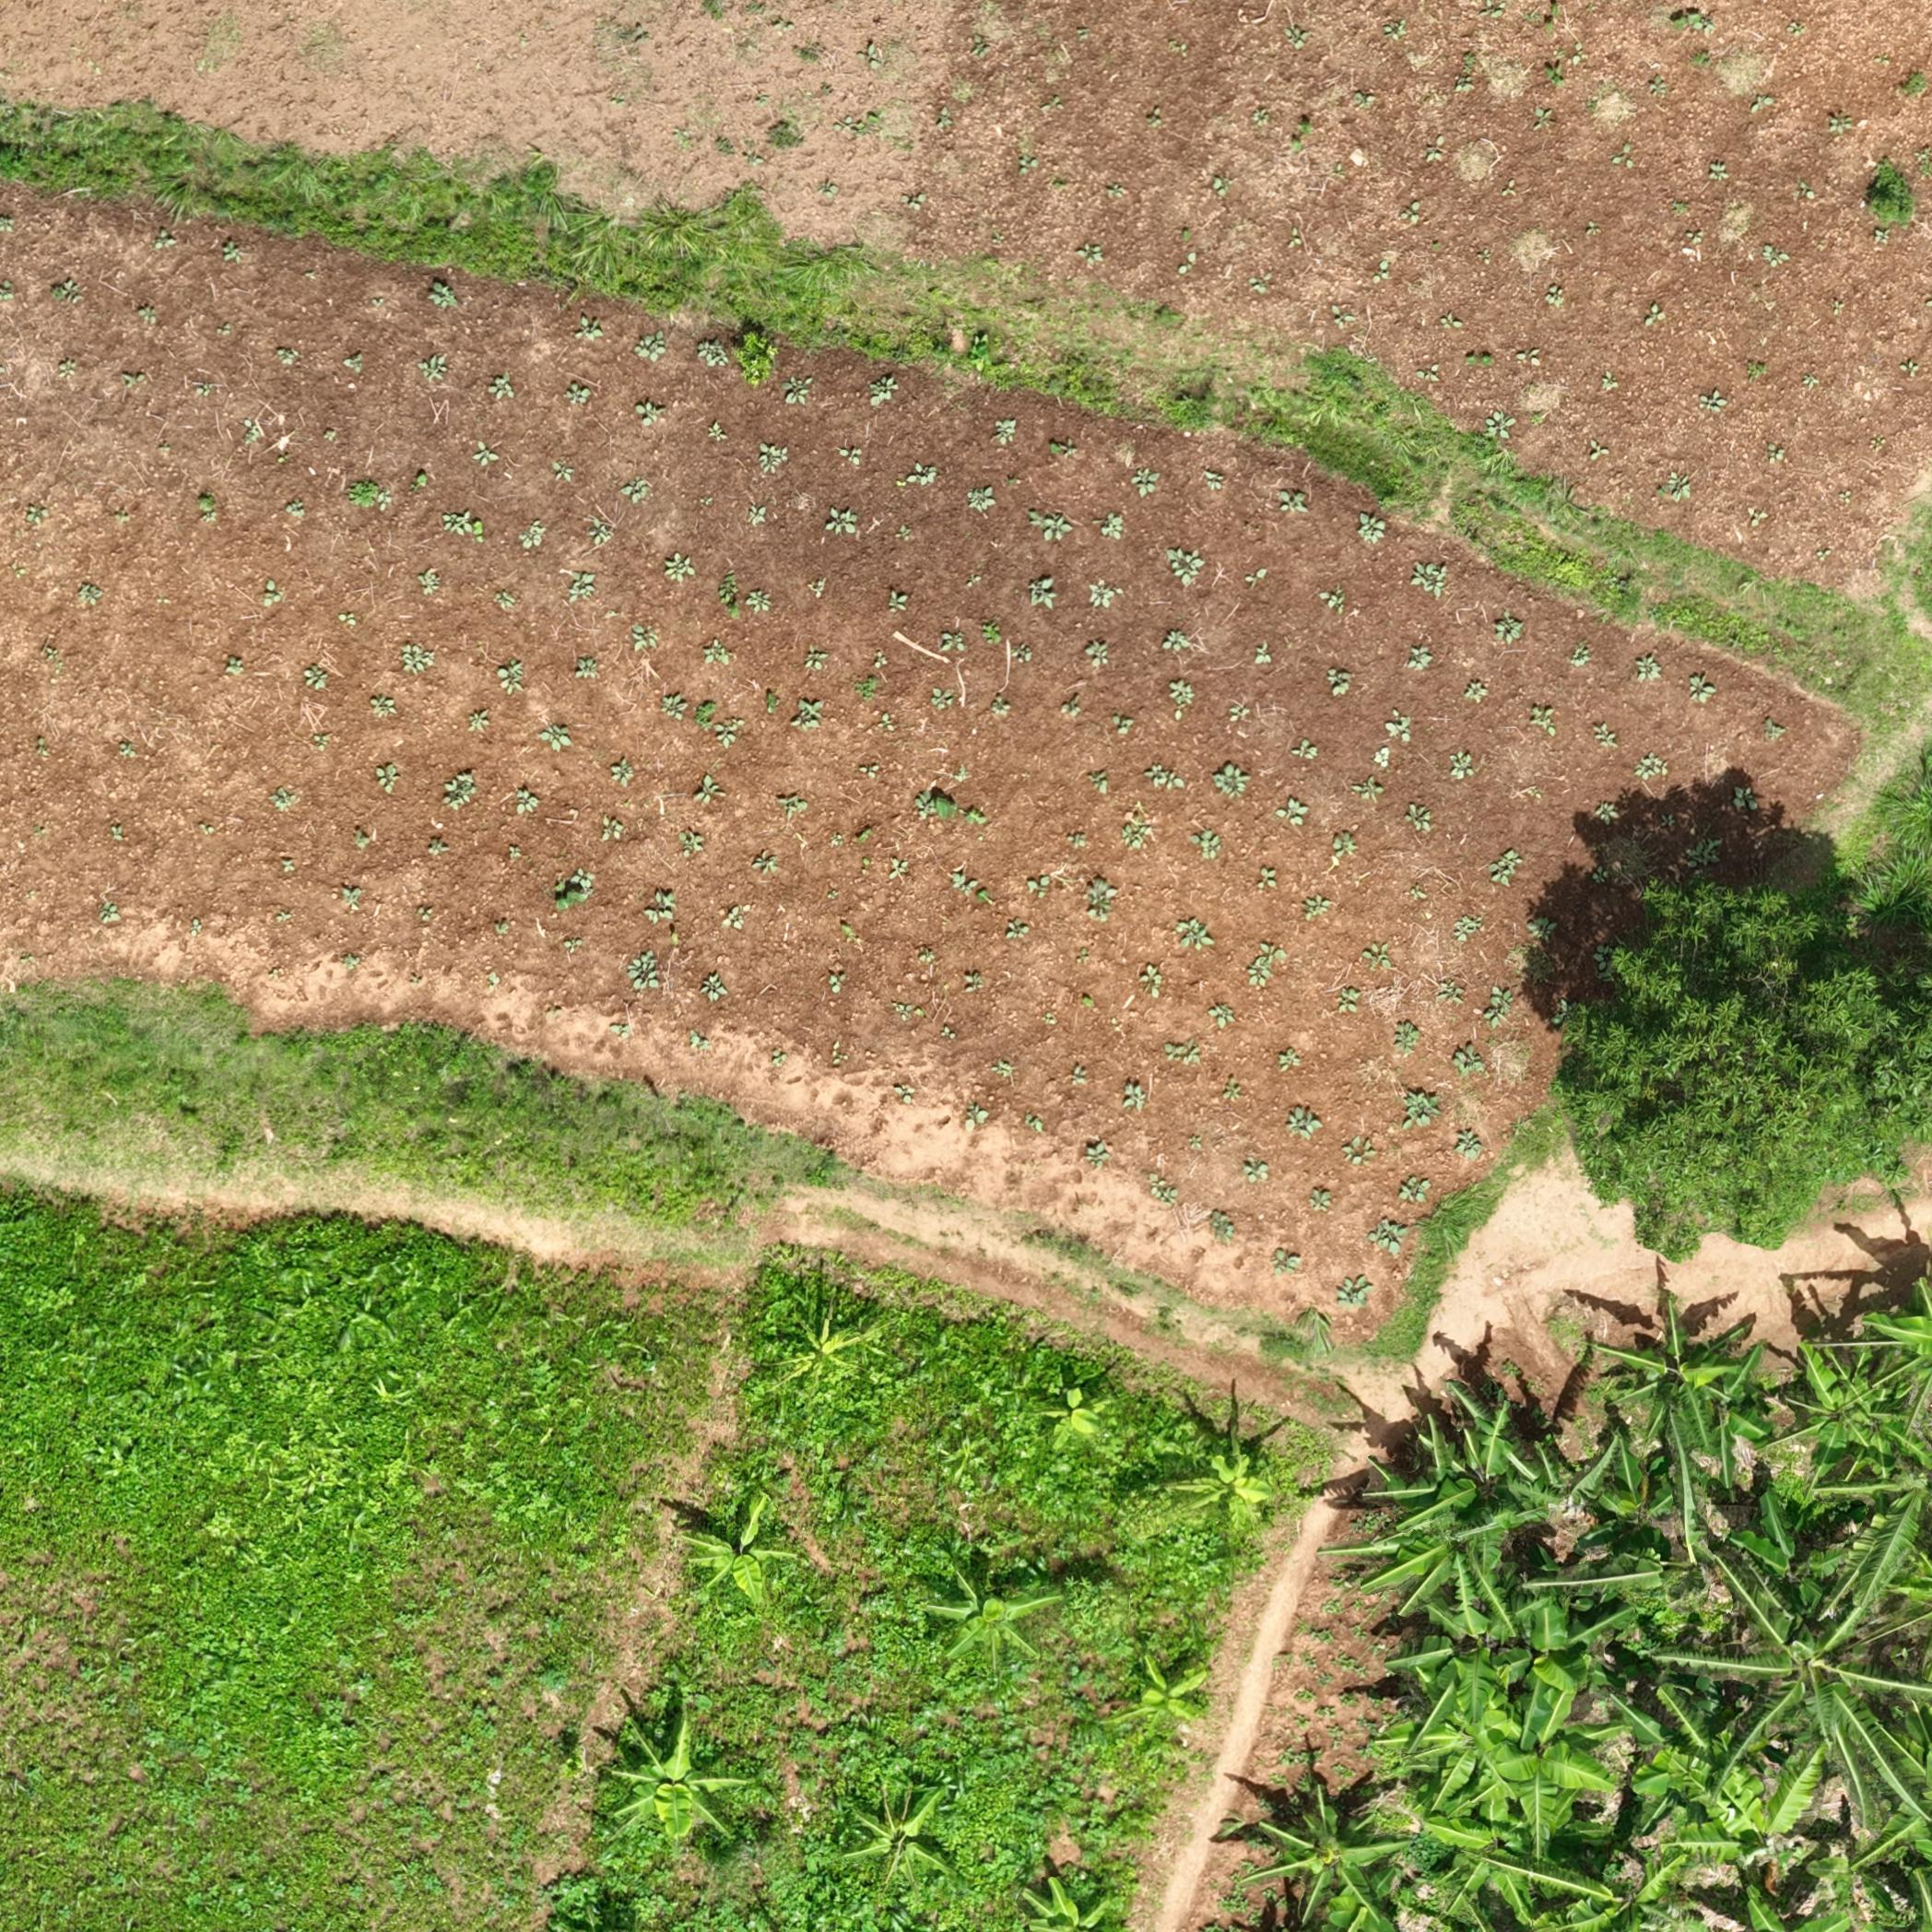Banana: (1721, 1592, 1930, 1822), (1564, 1292, 1776, 1479), (1437, 1698, 1631, 1852), (1361, 1506, 1548, 1644), (1242, 1789, 1422, 1907), (600, 1702, 745, 1849), (1785, 1336, 1927, 1476), (1399, 1394, 1548, 1527), (916, 1568, 1056, 1686), (842, 1778, 964, 1905), (671, 1497, 801, 1614), (1109, 1651, 1210, 1734), (784, 1318, 879, 1391), (1196, 1451, 1276, 1514), (1053, 1391, 1102, 1451)
